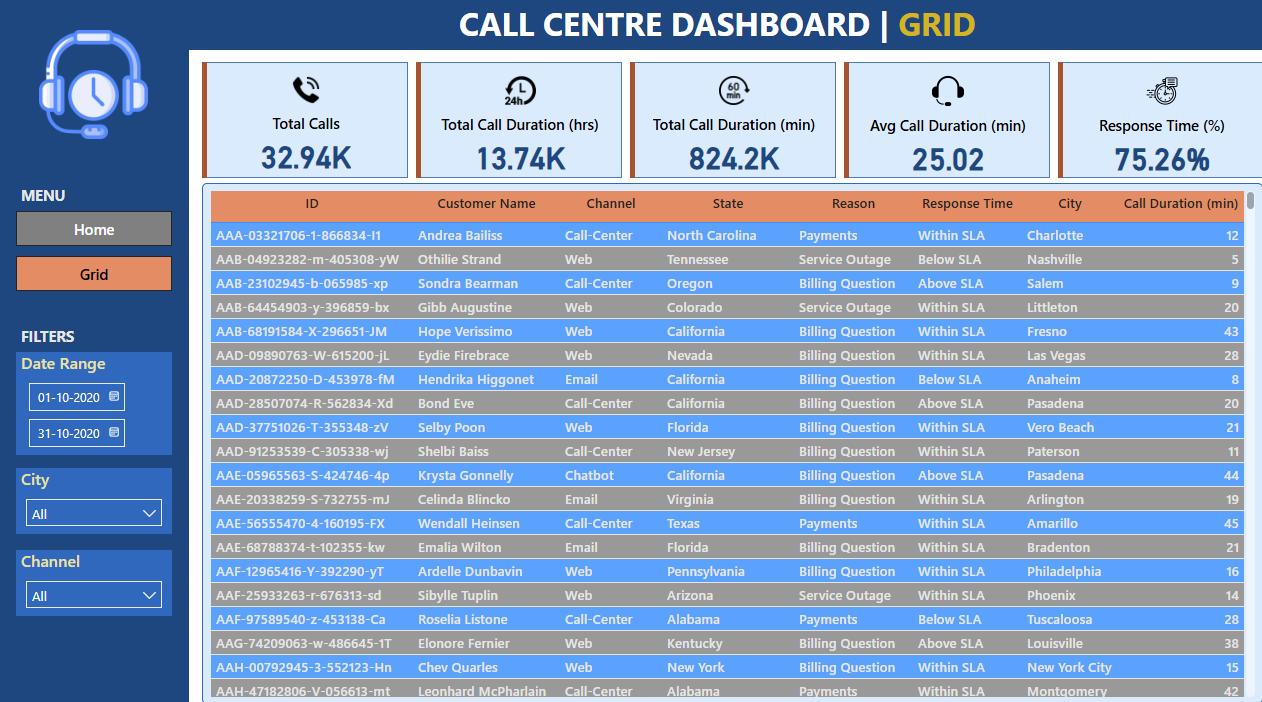

The page's visual inventory and layout, read from the dashboard file:
{"tool":"powerbi","page":{"name":"Grid","canvas":[1280,720],"ordinal":1},"visuals":[{"type":"shape","box":[9,8,1264,50],"z":0},{"type":"shape","box":[9,58,190,655],"z":1000},{"type":"cardVisual","fields":{"Data":["Call_Center.Total Calls","Call_Center.Total Call Duration (hrs)","Call_Center.Total Call Duration (min)","Call_Center.Avg Call Duration (min)","Call_Center.Response Time (%)"]},"box":[207,65,1072,126],"z":2000},{"type":"textbox","box":[464,4,557,58],"z":3000},{"type":"slicer","title":"Date Range","fields":{"Values":["Date Table.Date"]},"box":[26,360,156,103],"z":4000},{"type":"slicer","title":"City","fields":{"Values":["Call_Centre.City"]},"box":[26,476,156,66],"z":5000},{"type":"slicer","title":"Channel","fields":{"Values":["Call_Centre.Channel"]},"box":[26,558,156,66],"z":6000},{"type":"image","box":[44,33,119,119],"z":7000},{"type":"tableEx","fields":{"Values":["Call_Centre.Id","Call_Centre.Customer_Name","Call_Centre.Channel","Call_Centre.State","Call_Centre.Reason","Call_Centre.Response_Time","Call_Centre.City","Sum(Call_Centre.Call_Duration_In_Minutes)"]},"box":[212,191,1061,522],"z":8000},{"type":"textbox","box":[26,188,66,31],"z":9000},{"type":"textbox","box":[26,329,78,31],"z":10000},{"type":"pageNavigator","box":[26,219,156,81],"z":11000}]}

Visuals, with their boxes in screenshot pixels (x1, y1, x2, y2), scaled from the page's 1280x720 canvas onto the 1262x702 screenshot:
shape: x1=9, y1=8, x2=1255, y2=57
shape: x1=9, y1=57, x2=196, y2=695
cardVisual - Call_Center.Total Calls x Call_Center.Total Call Duration (hrs): x1=204, y1=63, x2=1261, y2=186
textbox: x1=457, y1=4, x2=1007, y2=60
"Date Range" slicer: x1=26, y1=351, x2=179, y2=451
"City" slicer: x1=26, y1=464, x2=179, y2=528
"Channel" slicer: x1=26, y1=544, x2=179, y2=608
image: x1=43, y1=32, x2=161, y2=148
tableEx - Call_Centre.Id x Call_Centre.Customer_Name: x1=209, y1=186, x2=1255, y2=695
textbox: x1=26, y1=183, x2=91, y2=214
textbox: x1=26, y1=321, x2=103, y2=351
pageNavigator: x1=26, y1=214, x2=179, y2=292
